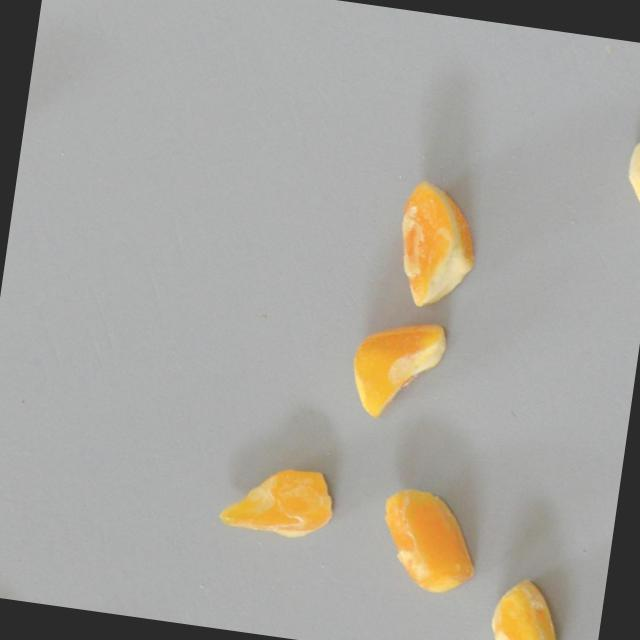pelicula: (388, 174, 486, 311), (374, 482, 486, 598), (214, 453, 343, 543), (487, 571, 577, 640), (618, 133, 640, 229)
